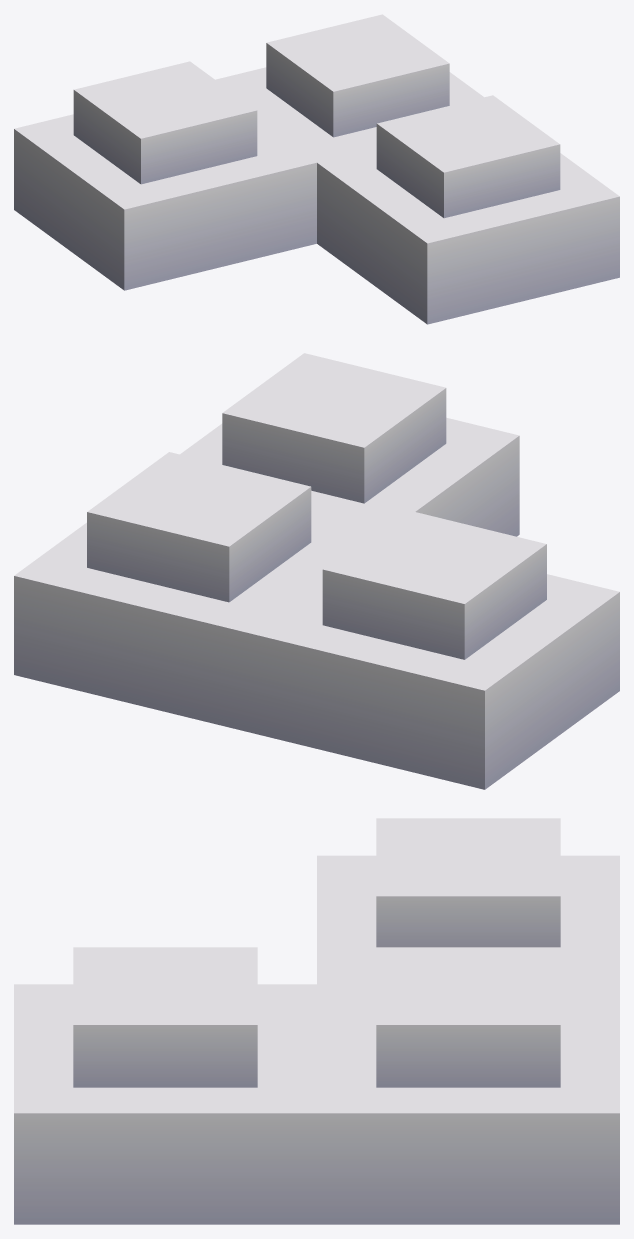
The model's file is kenney-brick-square-lq-plate-corner.glb.
3 renders of one model, top to bottom at view 1: azimuth 30°, elevation 25°; view 2: azimuth 150°, elevation 25°; view 3: azimuth 270°, elevation 25°, orthographic. The views are drawn at different scales.
Parts seen in each view (by area): view 1: square-lq-plate-corner; view 2: square-lq-plate-corner; view 3: square-lq-plate-corner.
Part boxes in pixels (box(x1,y1,x2,y2)): square-lq-plate-corner: box(14, 14, 619, 324); square-lq-plate-corner: box(14, 353, 619, 789); square-lq-plate-corner: box(14, 818, 619, 1224).
Size of the model in its own units: 0.159 by 0.05 by 0.158.
1 material, 1 textured.
